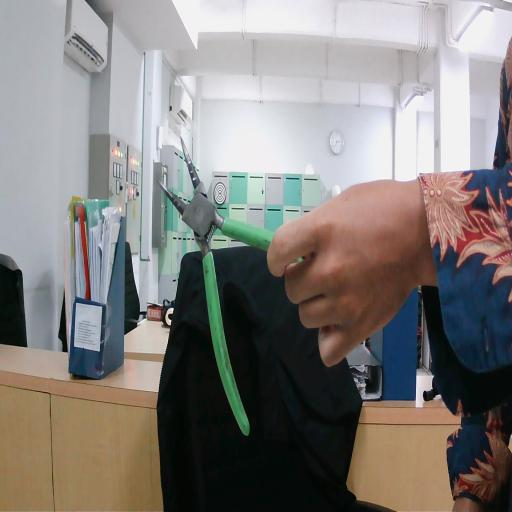tang_scun_hidrolik: (148, 118, 306, 446)
